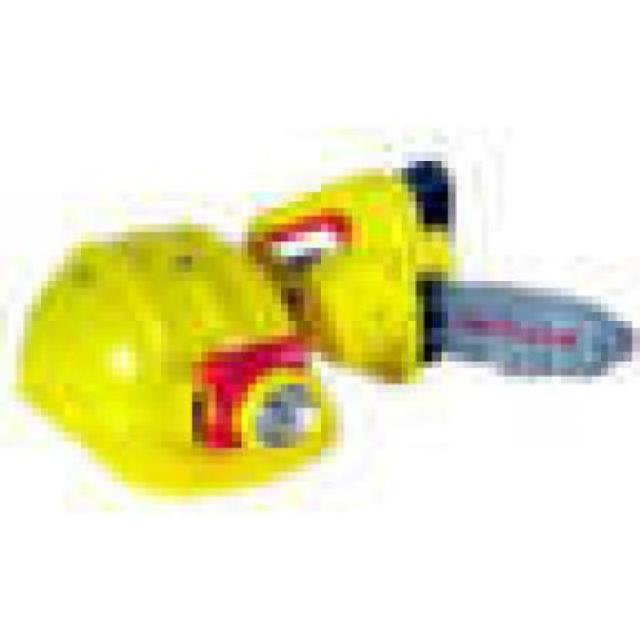Chainsaw: (237, 128, 634, 386)
